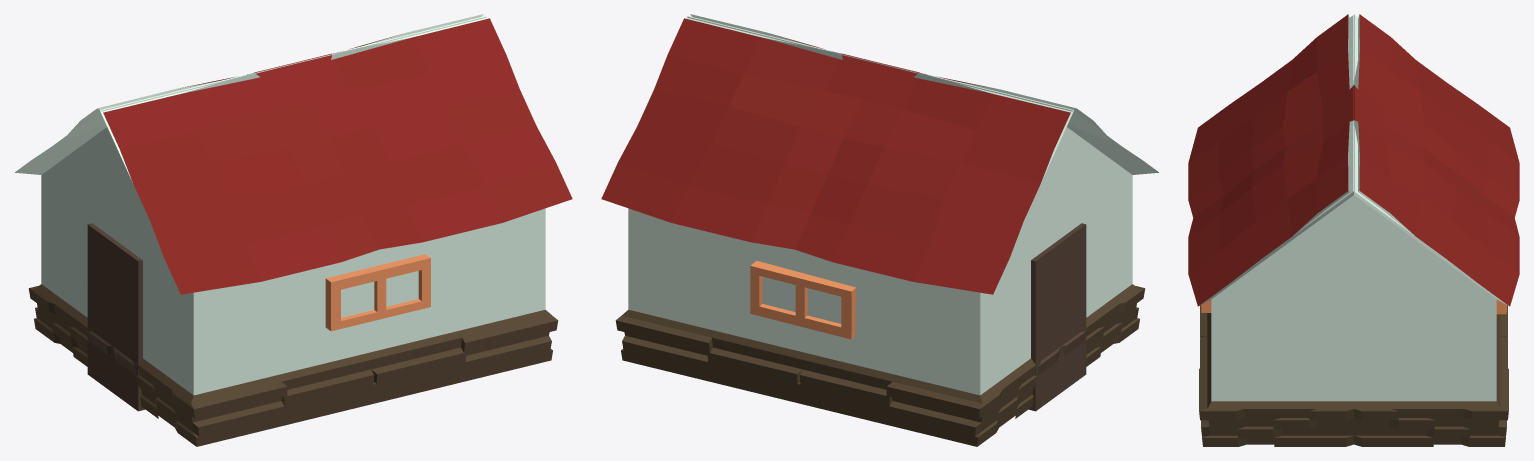
The model's file is Town_House6.fbx.
The picture shows the model from 3 angles, left to right: view 1: azimuth 30°, elevation 25°; view 2: azimuth 150°, elevation 25°; view 3: azimuth 270°, elevation 25°; orthographic projection. The views are drawn at different scales.
Parts seen in each view (by area): view 1: Cube; view 2: Cube; view 3: Cube.
Part boxes in pixels (x1,y1,x2,y2): Cube: (15,14,572,446); Cube: (601,14,1158,446); Cube: (1188,14,1519,446).
Bounding box in the file's own units: 891 × 620 × 697.
